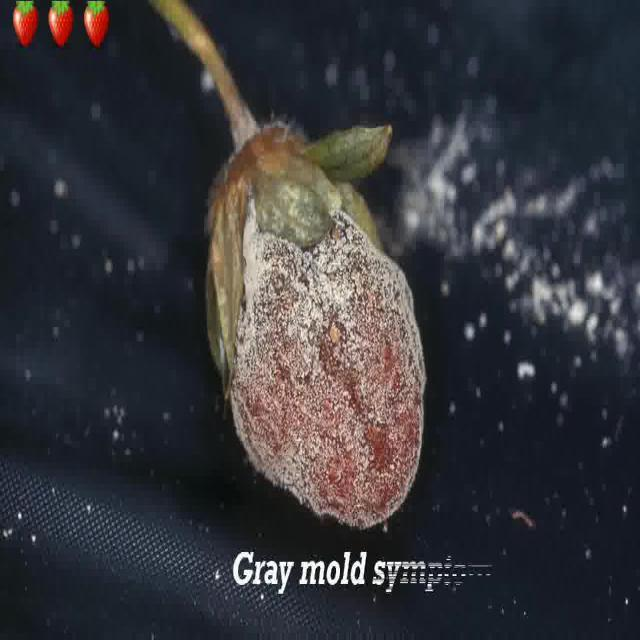Moho gris: (194, 111, 436, 534)
